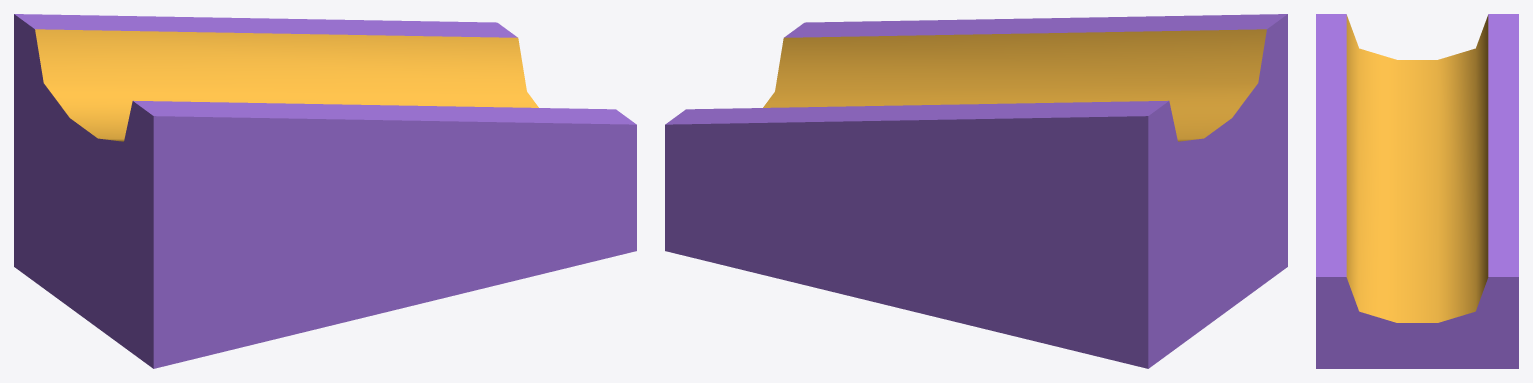
The model's file is slant-solid-long-b-col.glb.
3 renders of one model, left to right at view 1: azimuth 30°, elevation 25°; view 2: azimuth 150°, elevation 25°; view 3: azimuth 270°, elevation 25°, orthographic. The views are drawn at different scales.
Parts seen in each view (by area): view 1: slant-solid-long-b-col; view 2: slant-solid-long-b-col; view 3: slant-solid-long-b-col.
Part boxes in pixels (x1=…): slant-solid-long-b-col: x1=14, y1=14, x2=636, y2=368; slant-solid-long-b-col: x1=665, y1=14, x2=1287, y2=368; slant-solid-long-b-col: x1=1316, y1=14, x2=1518, y2=368.
Bounding box in the file's own units: 2 × 1 × 1.
Materials: 1 (1 with a texture image).
